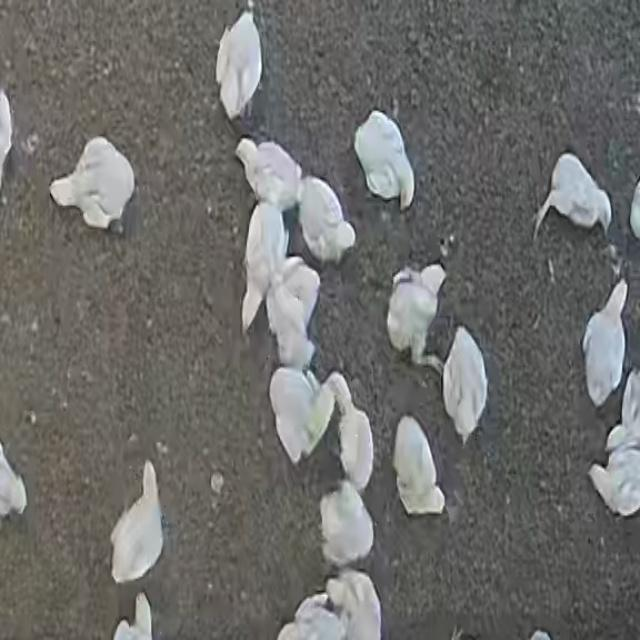chicken: (48, 134, 140, 232), (380, 259, 452, 372), (269, 364, 336, 470), (534, 154, 612, 242), (353, 108, 421, 208), (110, 460, 164, 584), (238, 194, 288, 327), (581, 279, 628, 406), (323, 375, 374, 491), (233, 134, 306, 208), (217, 5, 266, 114), (444, 327, 489, 445), (393, 413, 445, 515), (299, 179, 356, 260), (320, 482, 374, 566)
